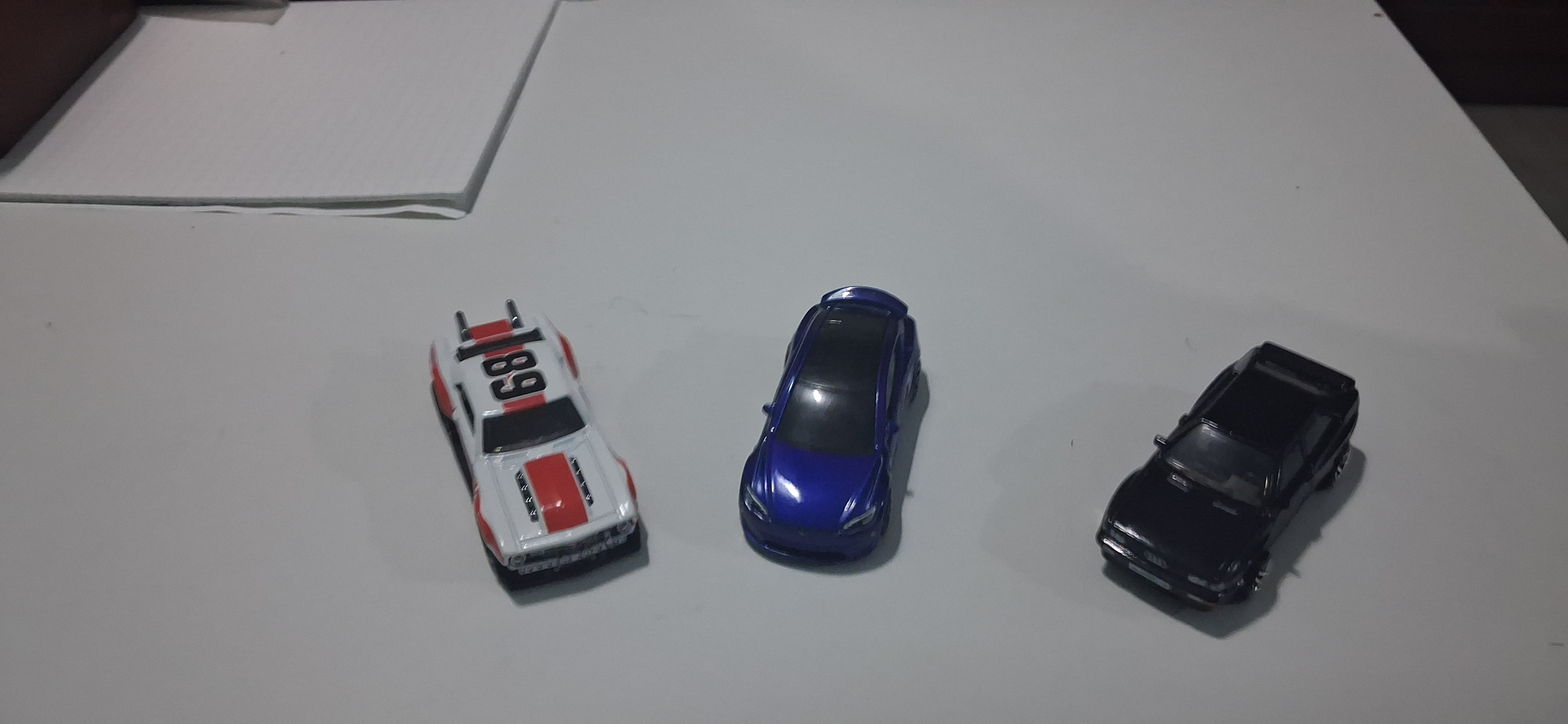Audi_Quattro: (1020, 266, 1409, 661)
Camaro: (388, 286, 671, 606)
Tesla_Model_S_Plaid: (697, 254, 970, 611)
